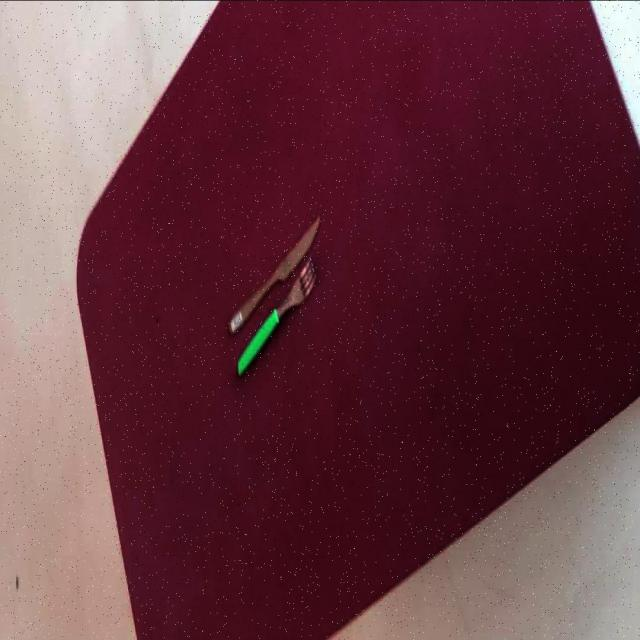Fork: (235, 255, 318, 376)
Knife: (227, 213, 320, 334)
